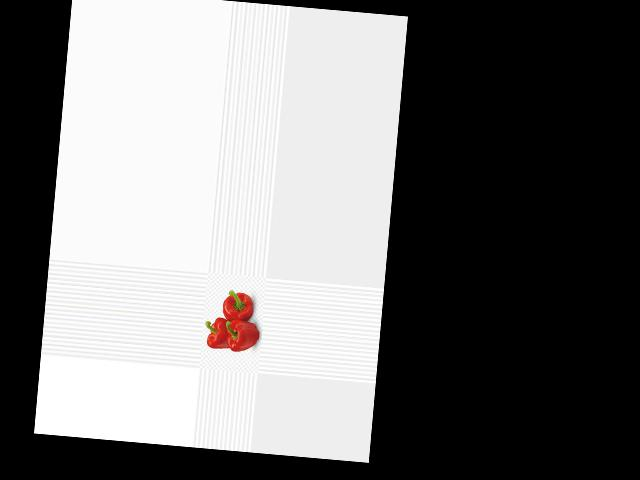bell_pepper: (217, 287, 257, 326)
